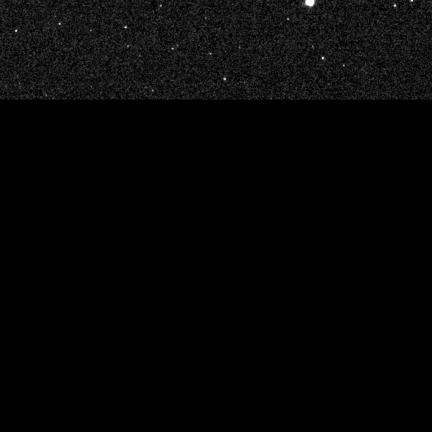blob: (306, 0, 314, 6), (394, 4, 397, 8), (124, 26, 128, 29), (223, 78, 227, 81), (15, 30, 18, 33), (127, 45, 130, 48), (322, 57, 325, 60), (210, 53, 213, 56), (59, 23, 61, 26)
